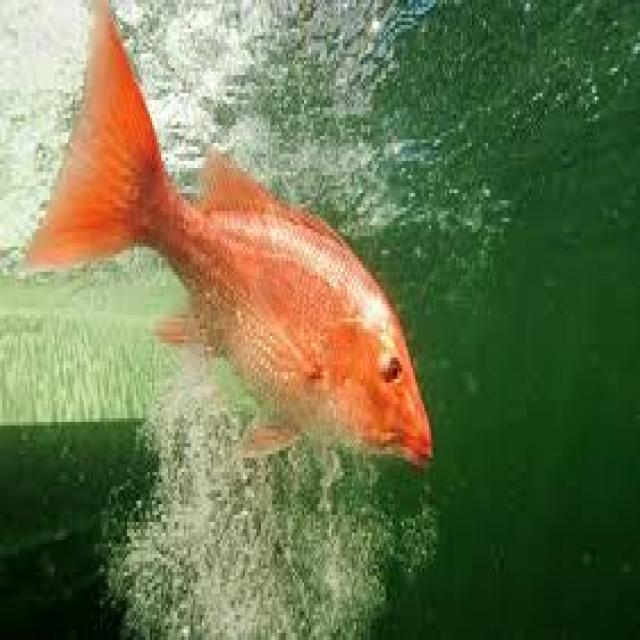northern-red-snapper: (20, 3, 455, 470)
